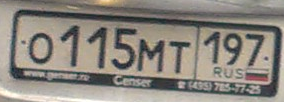character: (112, 27, 139, 75), (139, 36, 165, 77), (60, 22, 82, 68), (169, 36, 193, 77), (29, 30, 55, 65), (87, 27, 107, 72), (244, 29, 264, 69), (223, 30, 243, 66), (205, 30, 221, 69)
